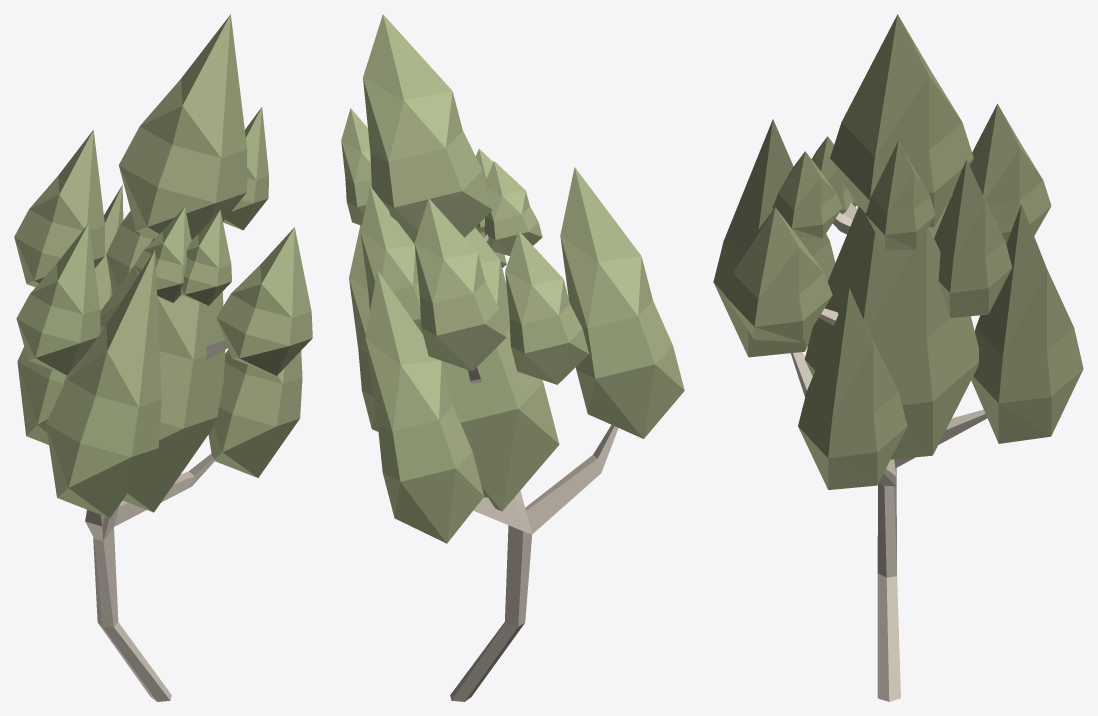
Rendered from Birch3.fbx.
The picture shows the model from 3 angles, left to right: view 1: azimuth 30°, elevation 25°; view 2: azimuth 150°, elevation 25°; view 3: azimuth 270°, elevation 25°; orthographic projection. The views are drawn at different scales.
Visible parts, largest first — view 1: Birch3; view 2: Birch3; view 3: Birch3.
Part boxes in pixels (x1,y1,x2,y2): Birch3: (14,14,312,701); Birch3: (341,14,684,701); Birch3: (713,14,1083,701).
Size of the model in its own units: 9.16 by 21.04 by 9.79.
